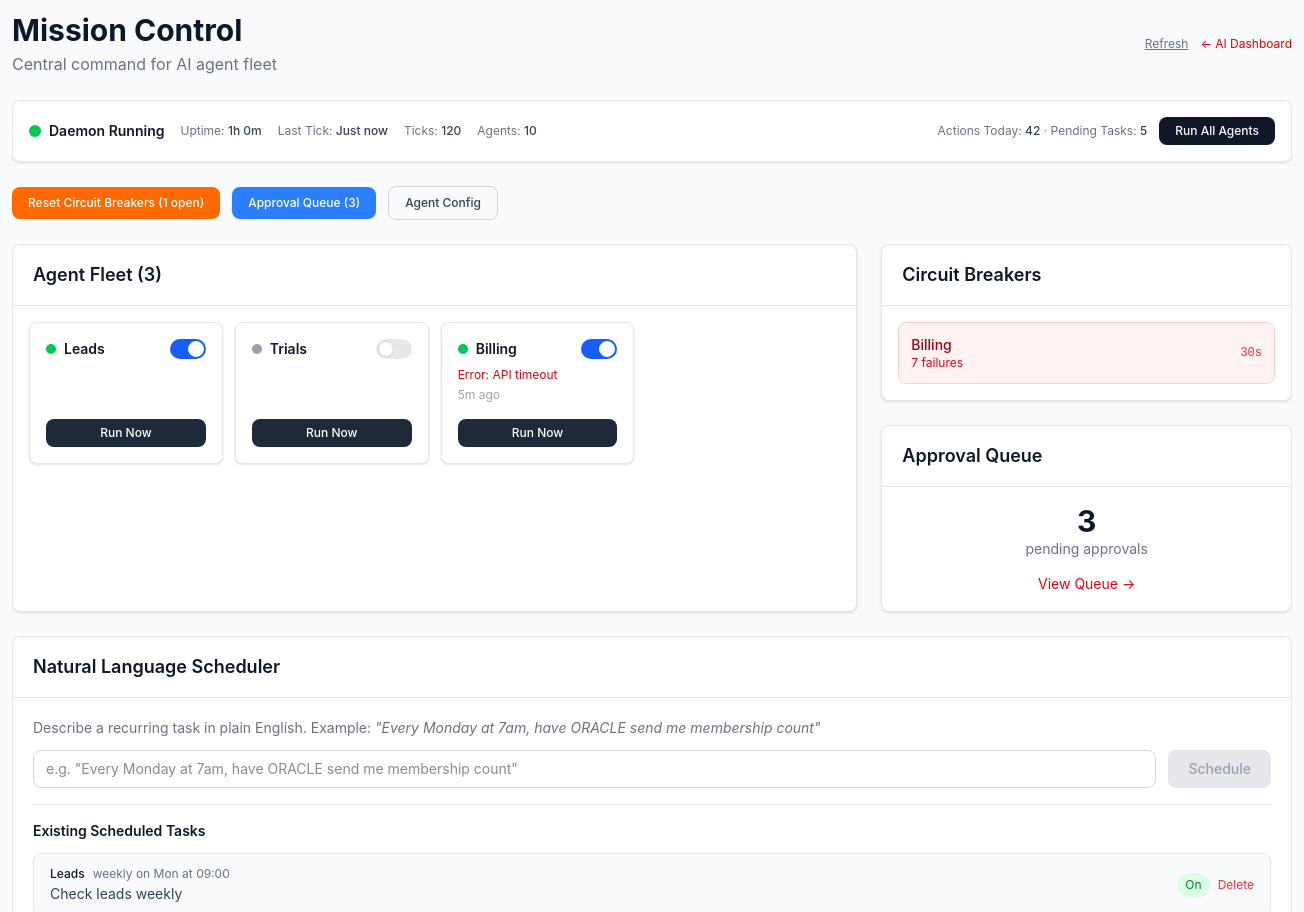
Test: MissionControl › shows Running... state while running all agents
Click the button "Run All Agents" at (1217, 131), box [1159,117,1275,145]
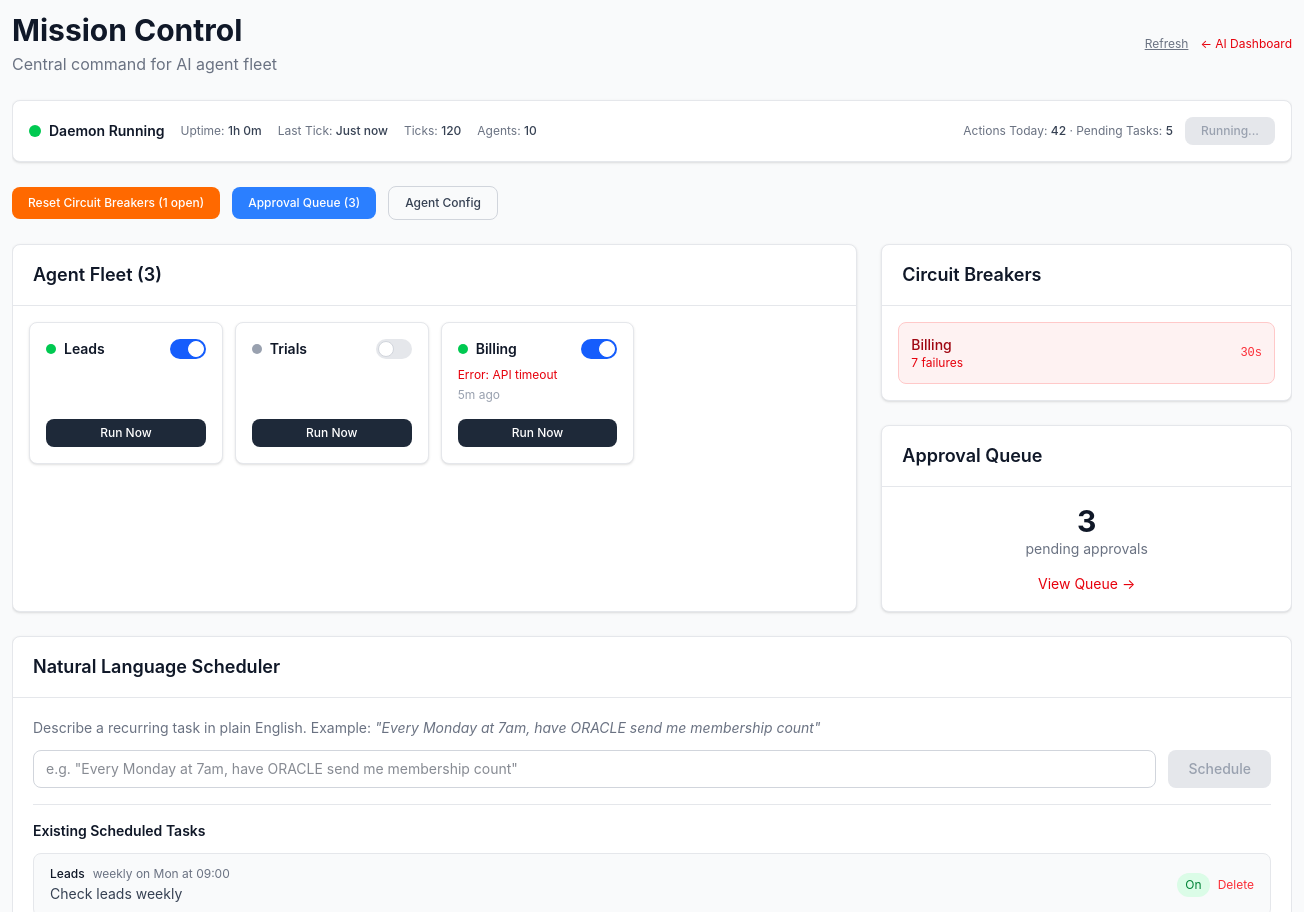
Expected: the button "Running..." is shown, [1185,117,1275,145]
